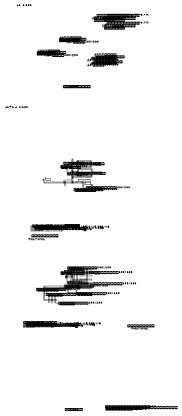corridor: (17, 190, 79, 195), (0, 88, 61, 93)
door: (101, 251, 102, 252)
wall: (36, 376, 38, 378), (145, 371, 146, 373), (145, 365, 146, 367), (81, 390, 82, 391)
